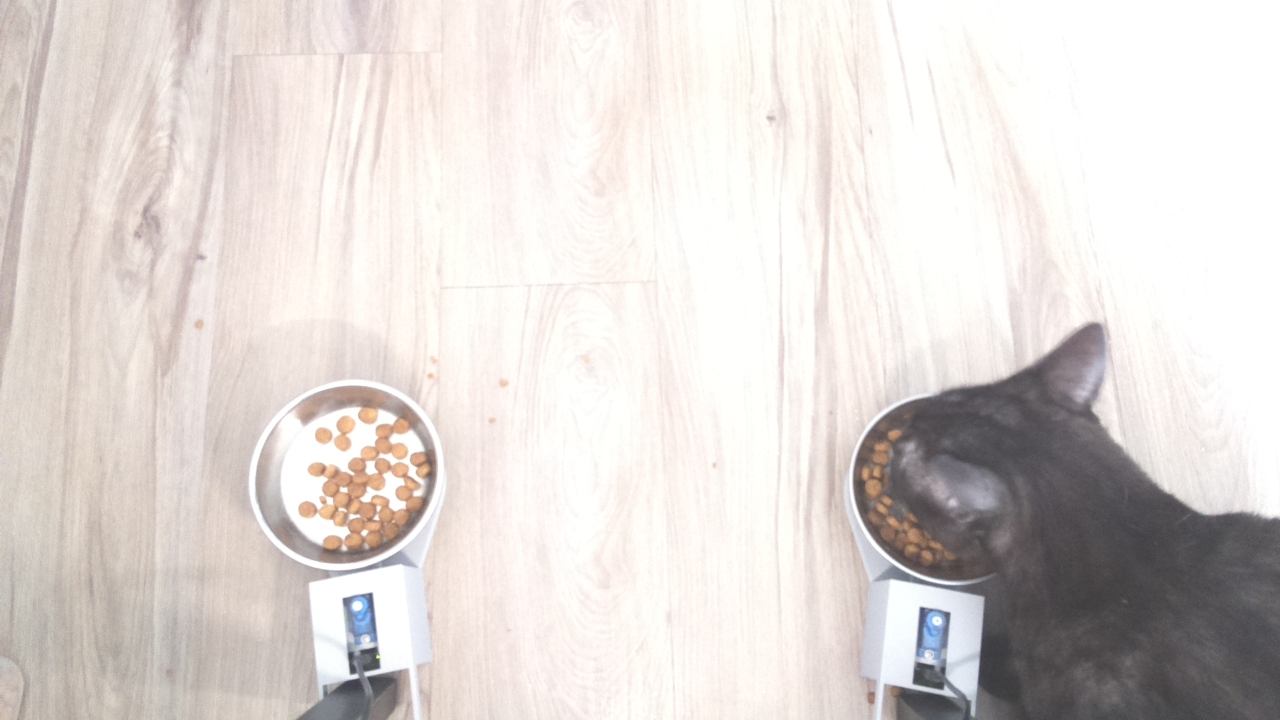open_bowl: (245, 378, 444, 564)
saki_eating: (839, 315, 1162, 591)
